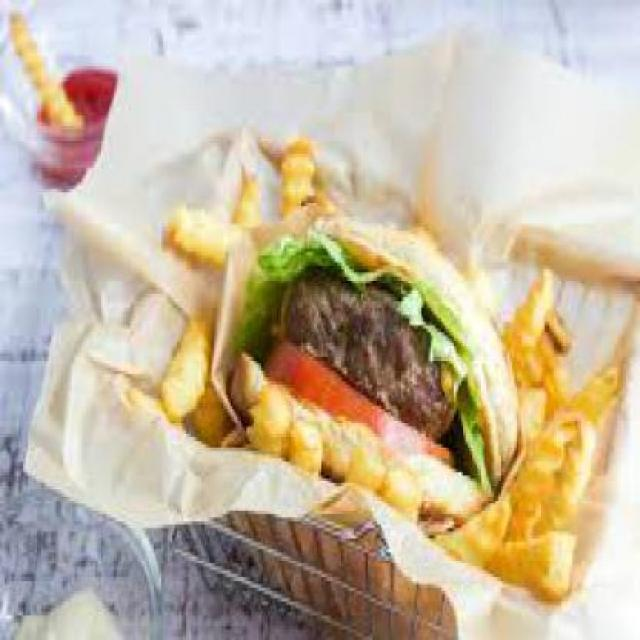french fries: (152, 130, 619, 598), (2, 4, 82, 133)
hamburger: (233, 203, 519, 532)
